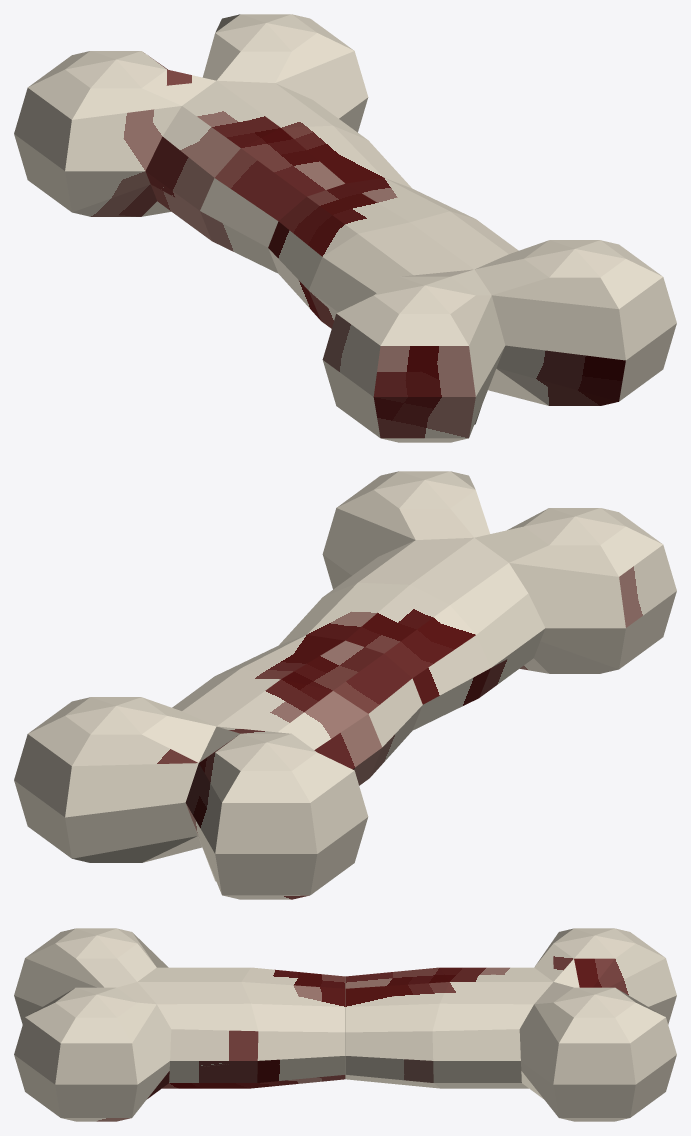
Rendered from HumanBone.fbx.
The picture shows the model from 3 angles, top to bottom: view 1: azimuth 30°, elevation 25°; view 2: azimuth 150°, elevation 25°; view 3: azimuth 270°, elevation 25°; orthographic projection. The views are drawn at different scales.
Visible parts, largest first — view 1: BoneCurve.001; view 2: BoneCurve.001; view 3: BoneCurve.001.
Part boxes in pixels (x1,y1,x2,y2): BoneCurve.001: (14,14,676,442); BoneCurve.001: (14,471,676,899); BoneCurve.001: (14,928,676,1121).
Bounding box in the file's own units: 115 × 53.79 × 270.
